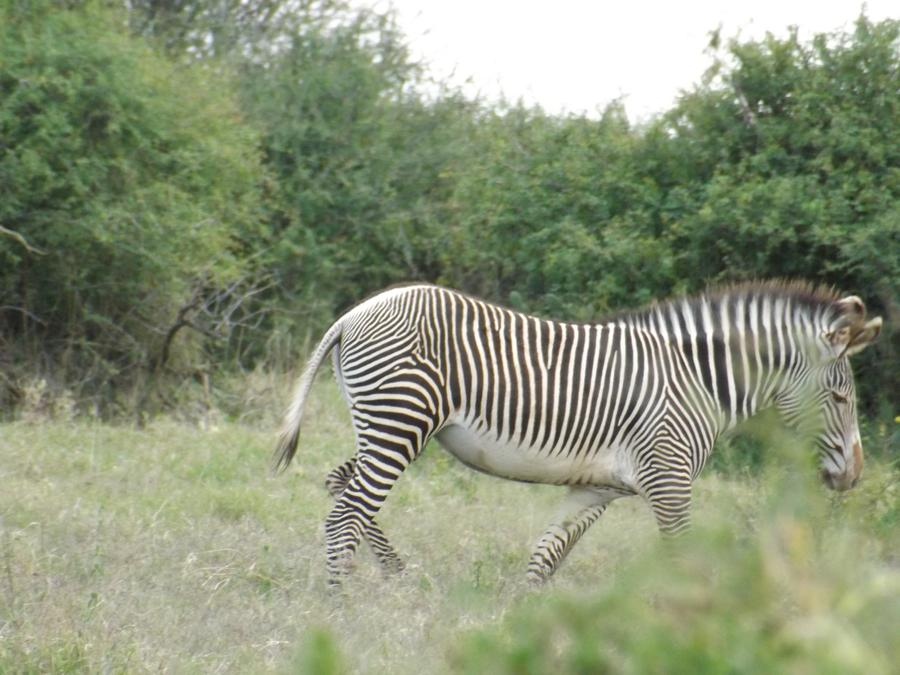zebra_grevys: (332, 268, 698, 485)
